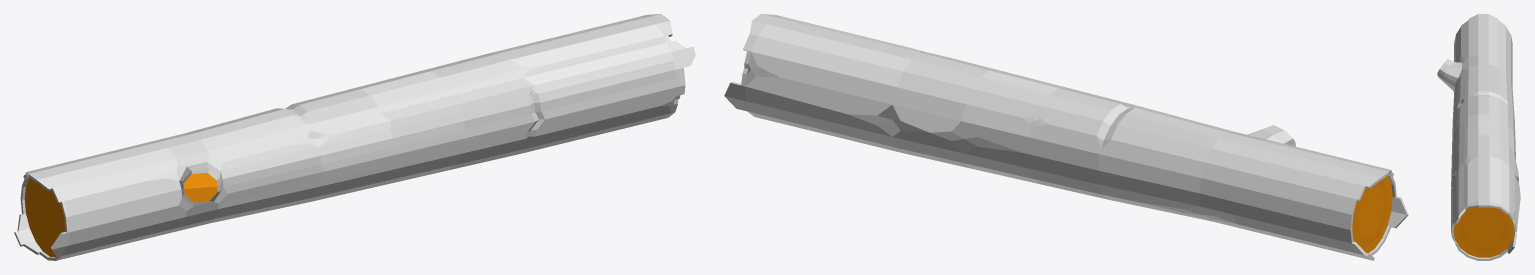
File: Log_6.fbx
3 renders of one model, left to right at view 1: azimuth 30°, elevation 25°; view 2: azimuth 150°, elevation 25°; view 3: azimuth 270°, elevation 25°, orthographic. The views are drawn at different scales.
Parts seen in each view (by area): view 1: Circle.196; view 2: Circle.196; view 3: Circle.196.
Part boxes in pixels (x1,y1,x2,y2): Circle.196: (14,14,695,260); Circle.196: (724,14,1408,260); Circle.196: (1437,14,1520,260).
Size of the model in its own units: 218 by 30.39 by 38.98.
